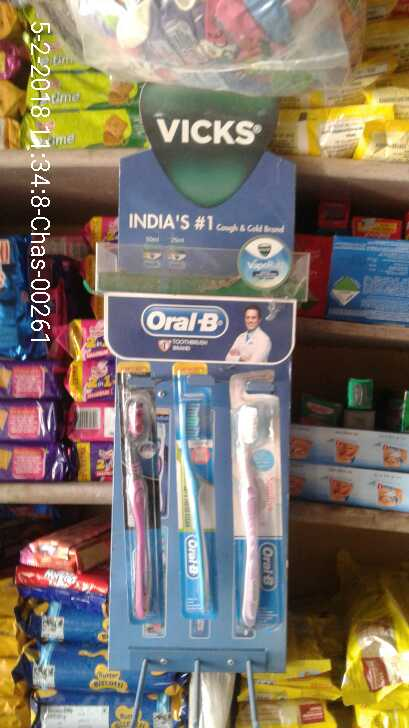oralb: (161, 376, 210, 617), (110, 390, 159, 616), (235, 390, 279, 631)
